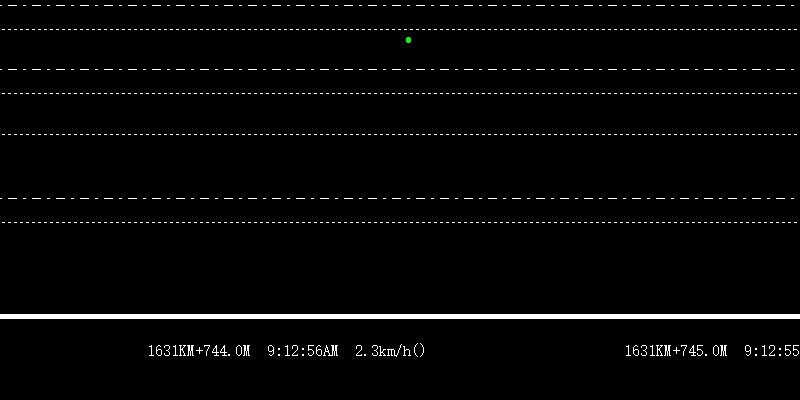face_down: (404, 24, 412, 47)
